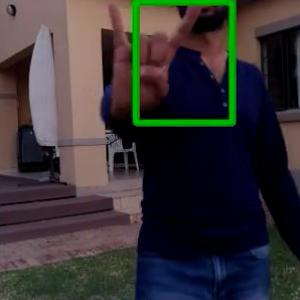takeoff-hand: (100, 0, 210, 124)
